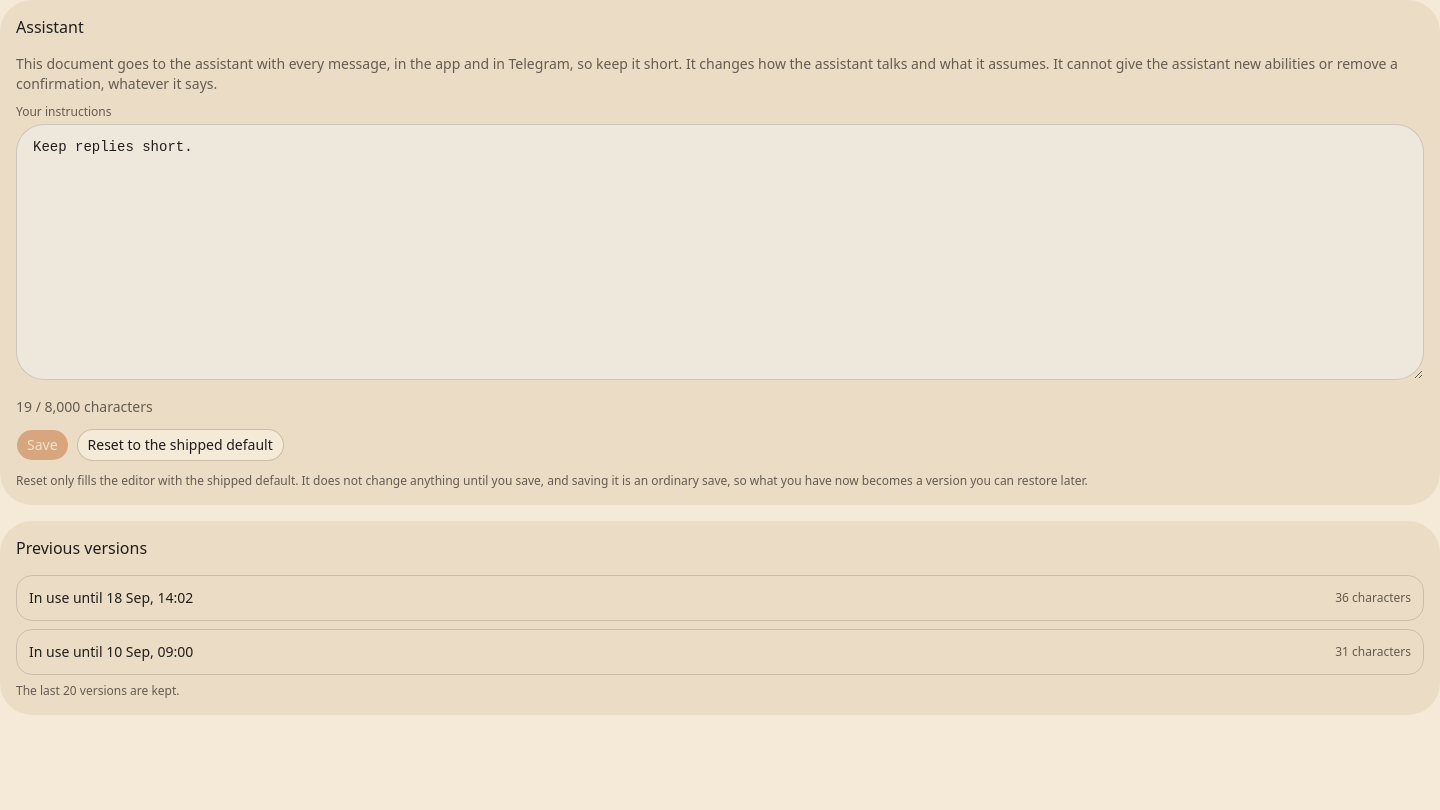
Scenario: AssistantTab › fills the editor with the shipped default without saving anything
Click the button "Reset to the shipped default" at (180, 445), box x1=77 y1=429 x2=284 y2=461
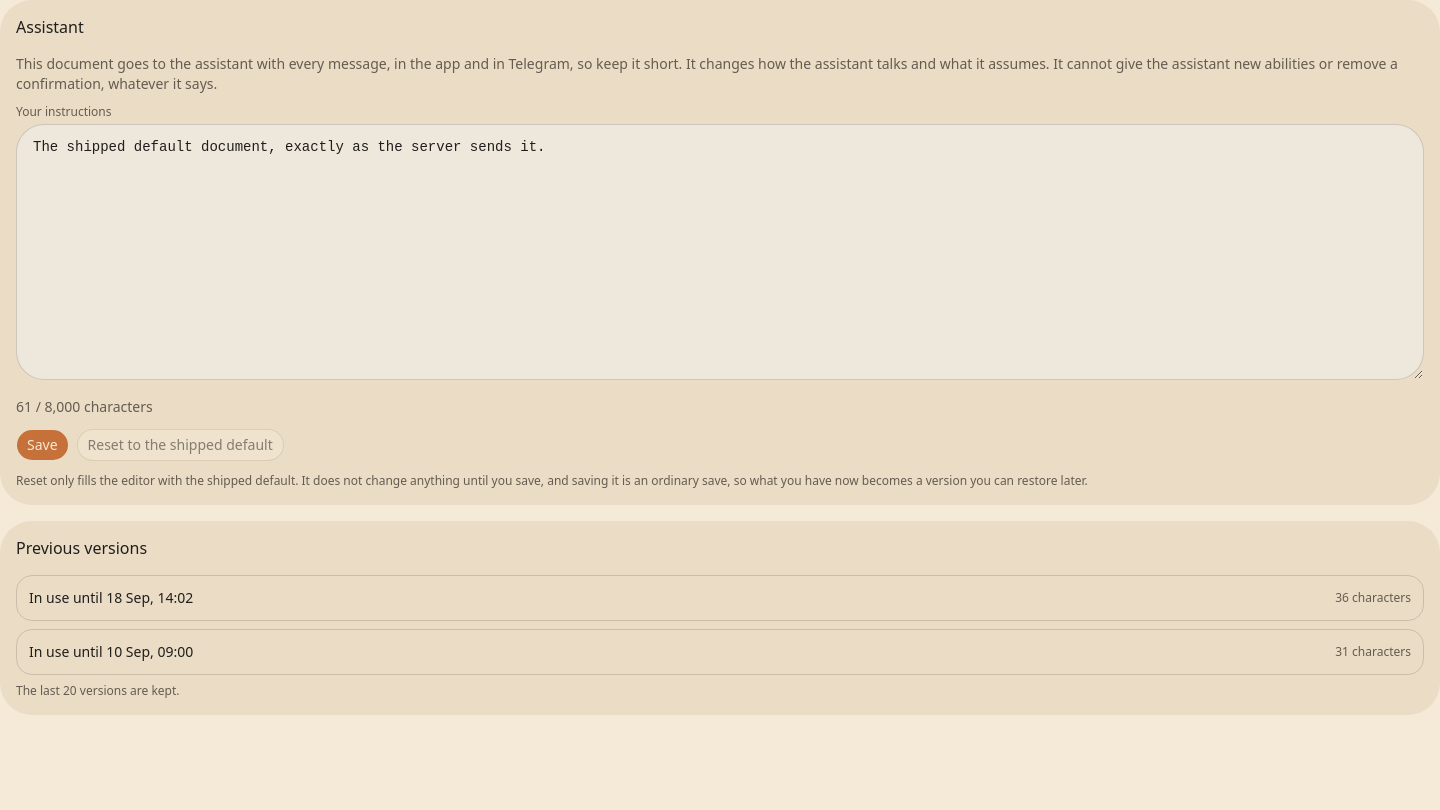
Check: the text box showing "Keep replies short." holds "The shipped default document, exactly as the server sends it.", box x1=16 y1=124 x2=1424 y2=380
